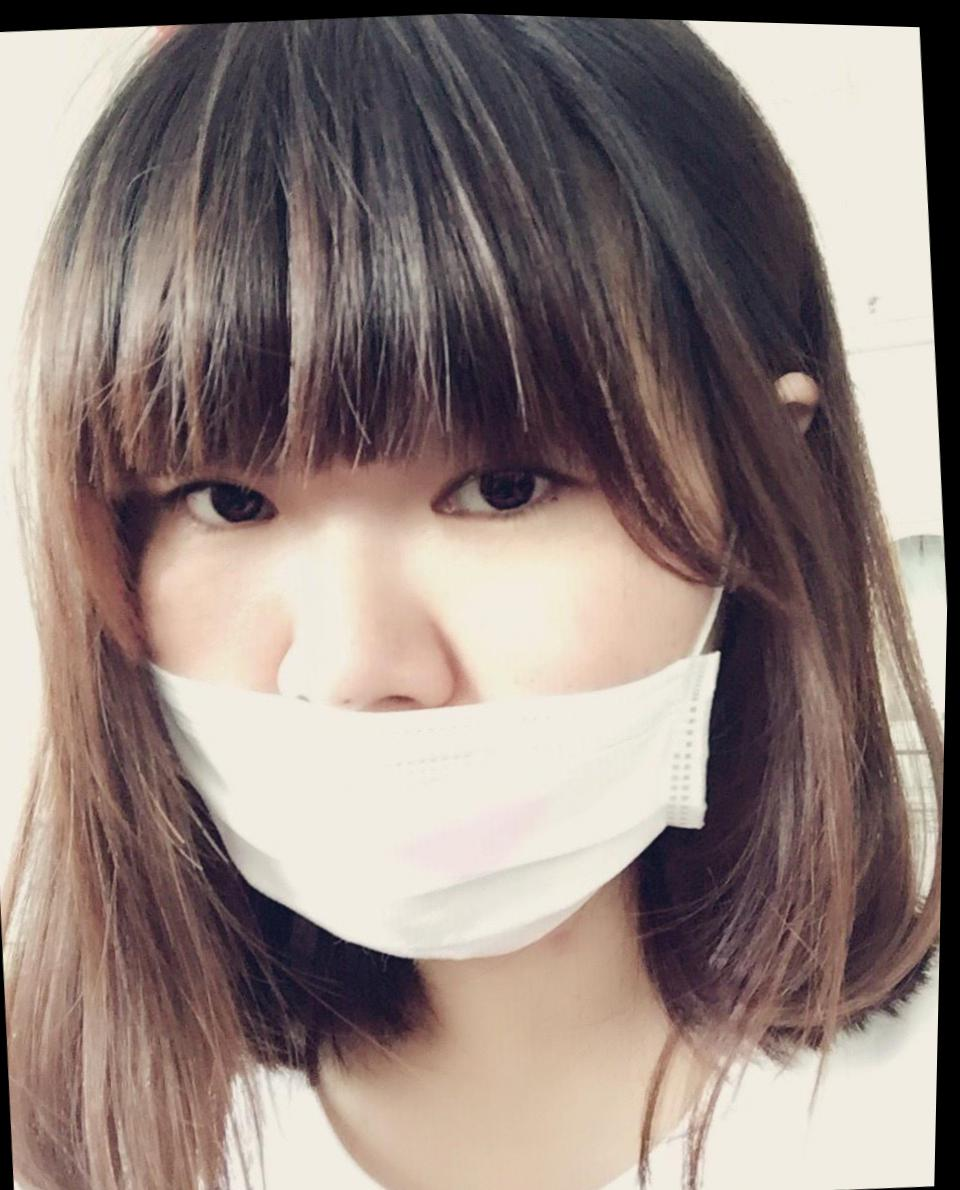WRONG: (50, 267, 771, 993)
